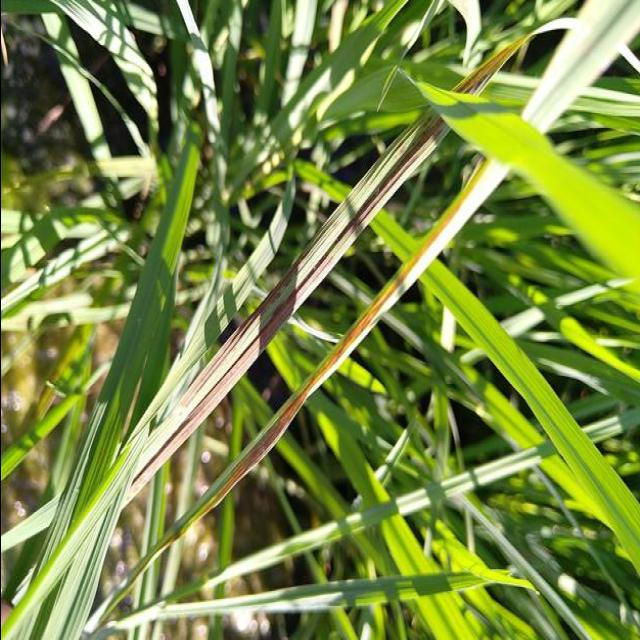Leaf Streak: (129, 155, 507, 579), (122, 114, 446, 507), (455, 42, 518, 97)
